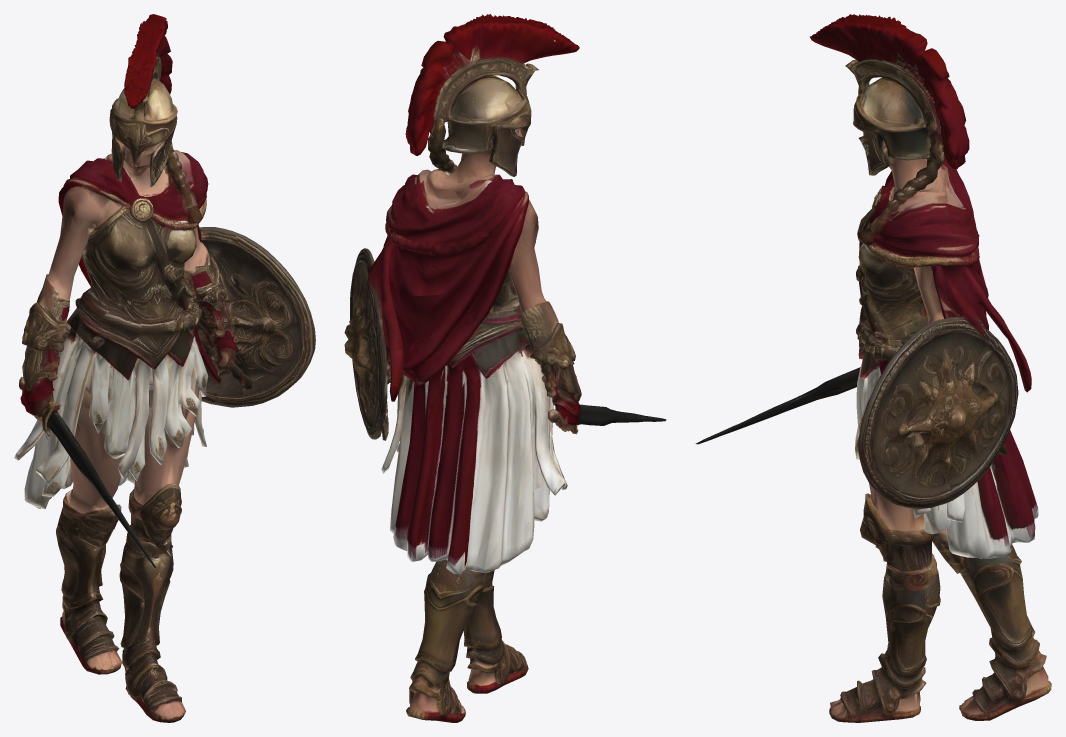
File: red-plumed-warrior.glb
3 views of the same model, side by side, from view 1: azimuth 30°, elevation 25°; view 2: azimuth 150°, elevation 25°; view 3: azimuth 270°, elevation 25° (orthographic). The views are drawn at different scales.
Parts seen in each view (by area): view 1: mesh_node; view 2: mesh_node; view 3: mesh_node.
Boxes of the visible parts, x1,y1,x2,y2 form: mesh_node: (14,14,315,722); mesh_node: (344,14,666,722); mesh_node: (695,14,1051,722).
Bounding box in the file's own units: 0.7661 × 1.9 × 0.879.
1 material, 1 textured.
